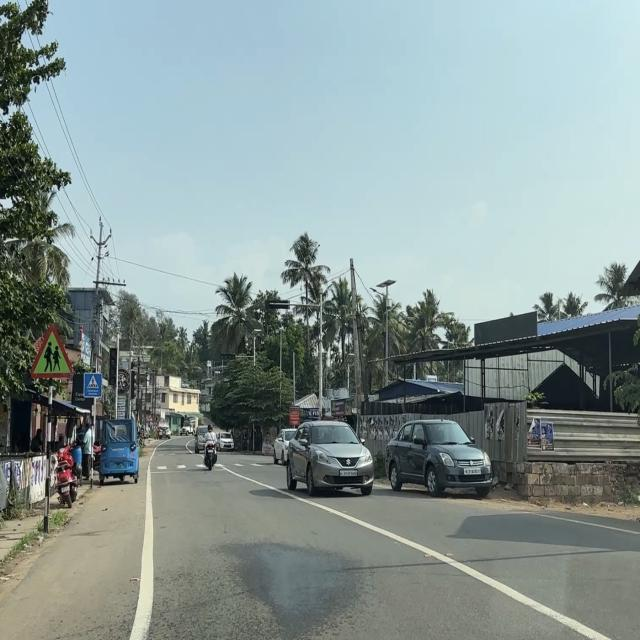PEDESTRIAN_CROSSING: (84, 372, 103, 398)
SCHOOL_AHEAD: (30, 324, 74, 381)
